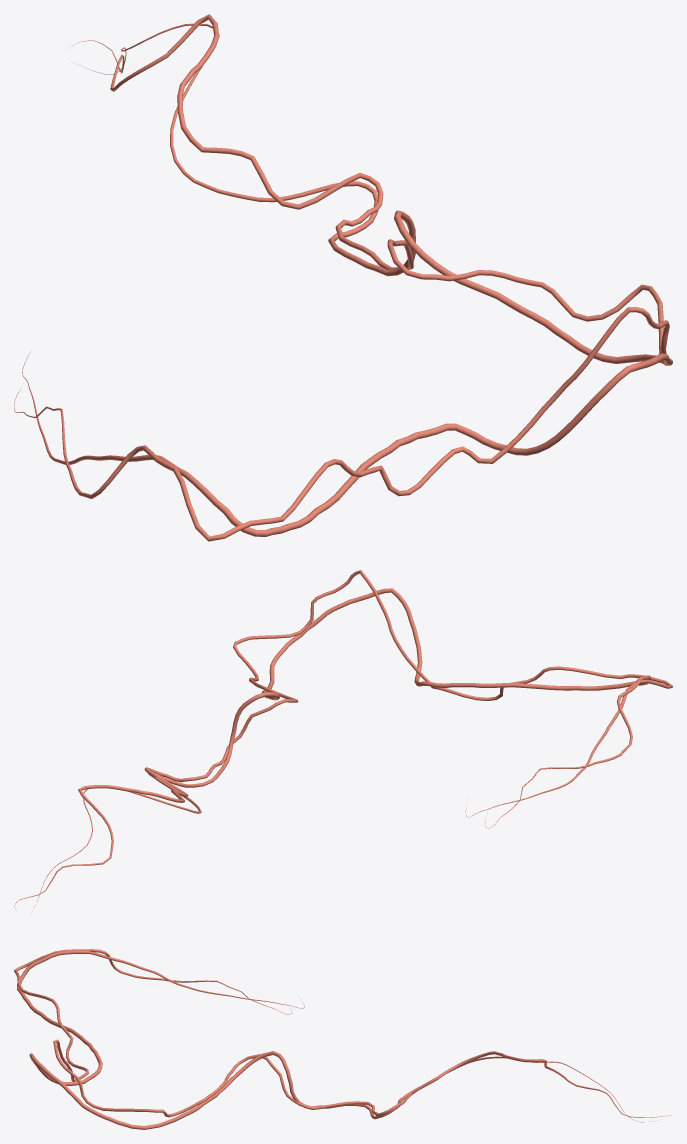
File: vine1.fbx
The picture shows the model from 3 angles, top to bottom: view 1: azimuth 30°, elevation 25°; view 2: azimuth 150°, elevation 25°; view 3: azimuth 270°, elevation 25°; orthographic projection. The views are drawn at different scales.
Parts seen in each view (by area): view 1: Climbing Vine Geometry Node; view 2: Climbing Vine Geometry Node; view 3: Climbing Vine Geometry Node.
Part boxes in pixels (bbox=[...]): Climbing Vine Geometry Node: bbox=[14, 14, 672, 541]; Climbing Vine Geometry Node: bbox=[14, 570, 672, 913]; Climbing Vine Geometry Node: bbox=[14, 949, 671, 1129].
Bounding box in the file's own units: 334 × 83.28 × 572.
